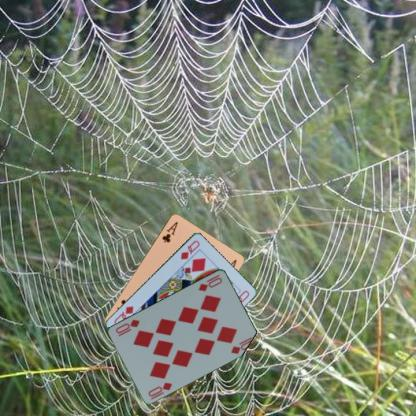10d: (146, 380, 174, 400), (196, 272, 223, 292)
Ac: (160, 218, 179, 244)
Qd: (178, 238, 201, 260)
